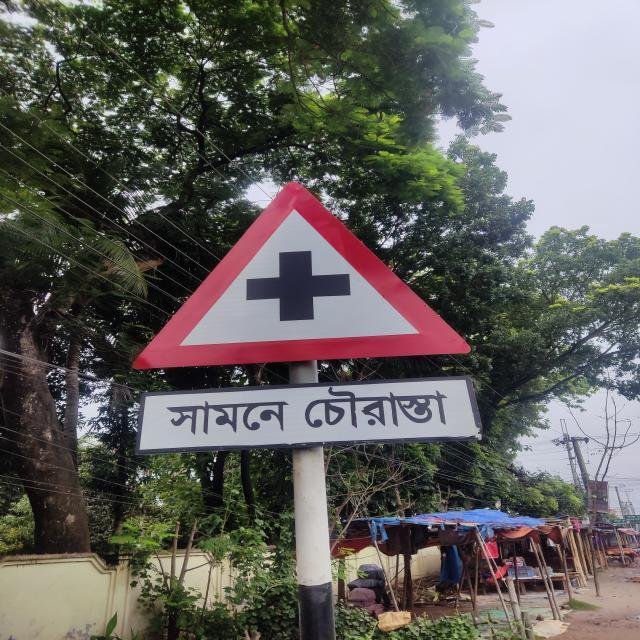Crossroads-ahead: (127, 185, 483, 454)
